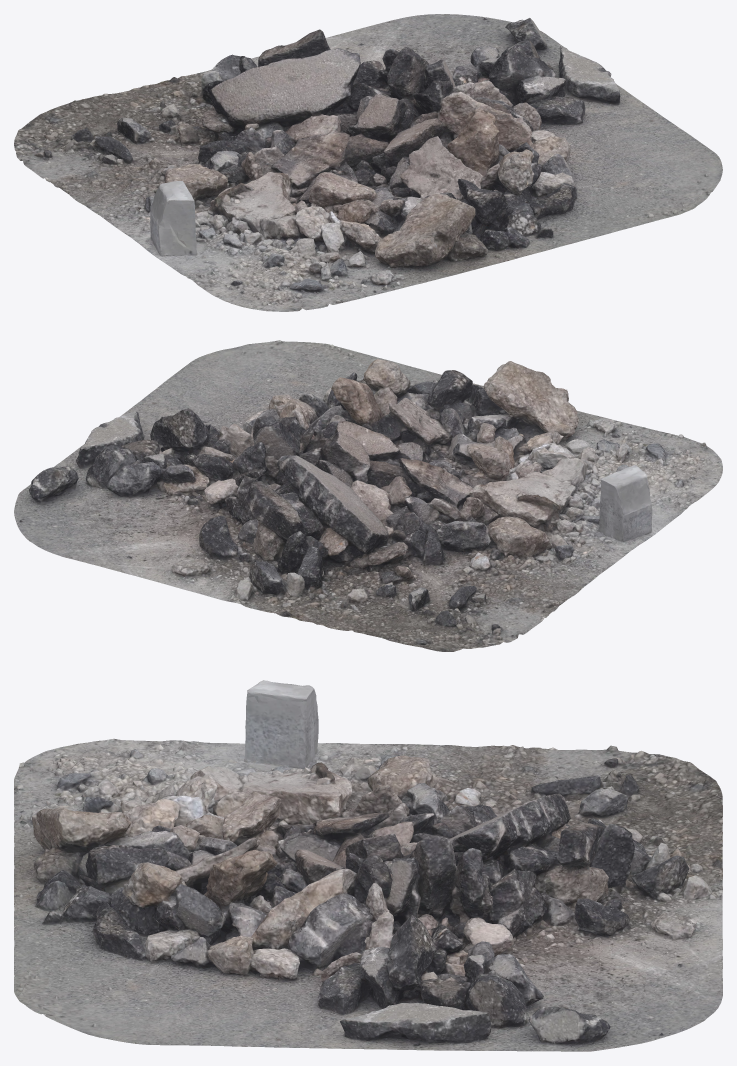
File: sf-crushed-asphalt-and-concrete-rubble-smal-87687f.glb
The picture shows the model from 3 angles, top to bottom: view 1: azimuth 30°, elevation 25°; view 2: azimuth 150°, elevation 25°; view 3: azimuth 270°, elevation 25°; orthographic projection. The views are drawn at different scales.
Parts seen in each view (by area): view 1: asphi_asphi_u1_v1_0; view 2: asphi_asphi_u1_v1_0; view 3: asphi_asphi_u1_v1_0.
Part boxes in pixels (x1,y1,x2,y2): asphi_asphi_u1_v1_0: (14, 14, 722, 311); asphi_asphi_u1_v1_0: (14, 340, 722, 651); asphi_asphi_u1_v1_0: (14, 680, 722, 1051).
Bounding box in the file's own units: 2.06 × 0.3325 × 1.94.
Materials: 1 (1 with a texture image).
